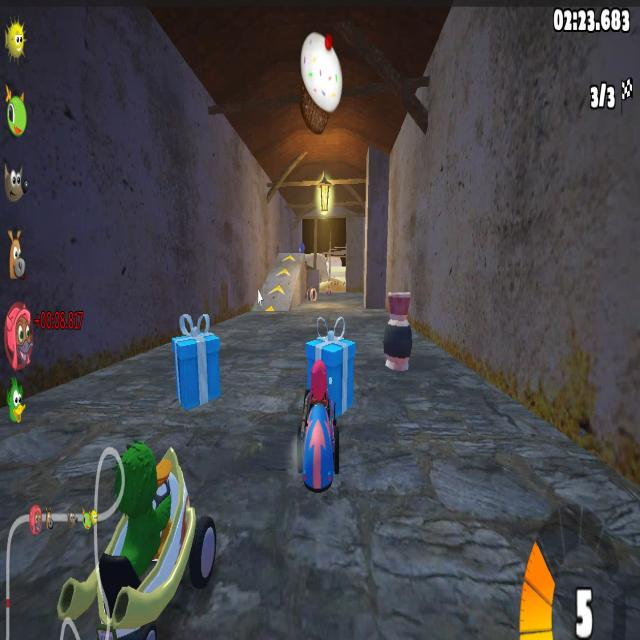bonus: (168, 315, 226, 421)
enemy_kart: (79, 416, 215, 605)
obstacle: (374, 288, 418, 394)
power_up: (260, 298, 279, 322), (268, 281, 290, 298), (276, 263, 295, 280)
